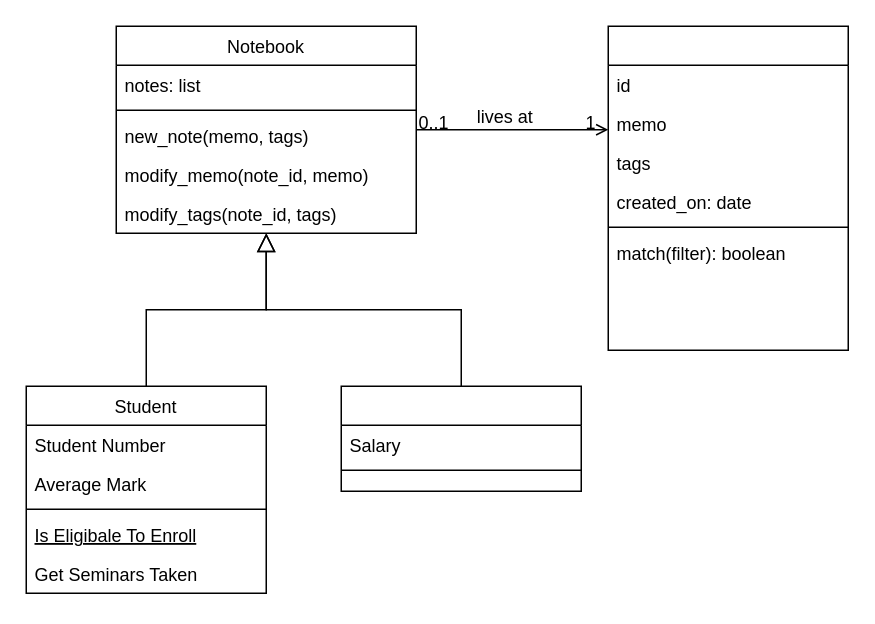
Image size: 875x624. Some labels were removed from this diagram. Here are the shapes that lost their labels. From the top down, the box of each, then its label:
(607, 25, 848, 350): Note
(340, 385, 581, 491): Professor
